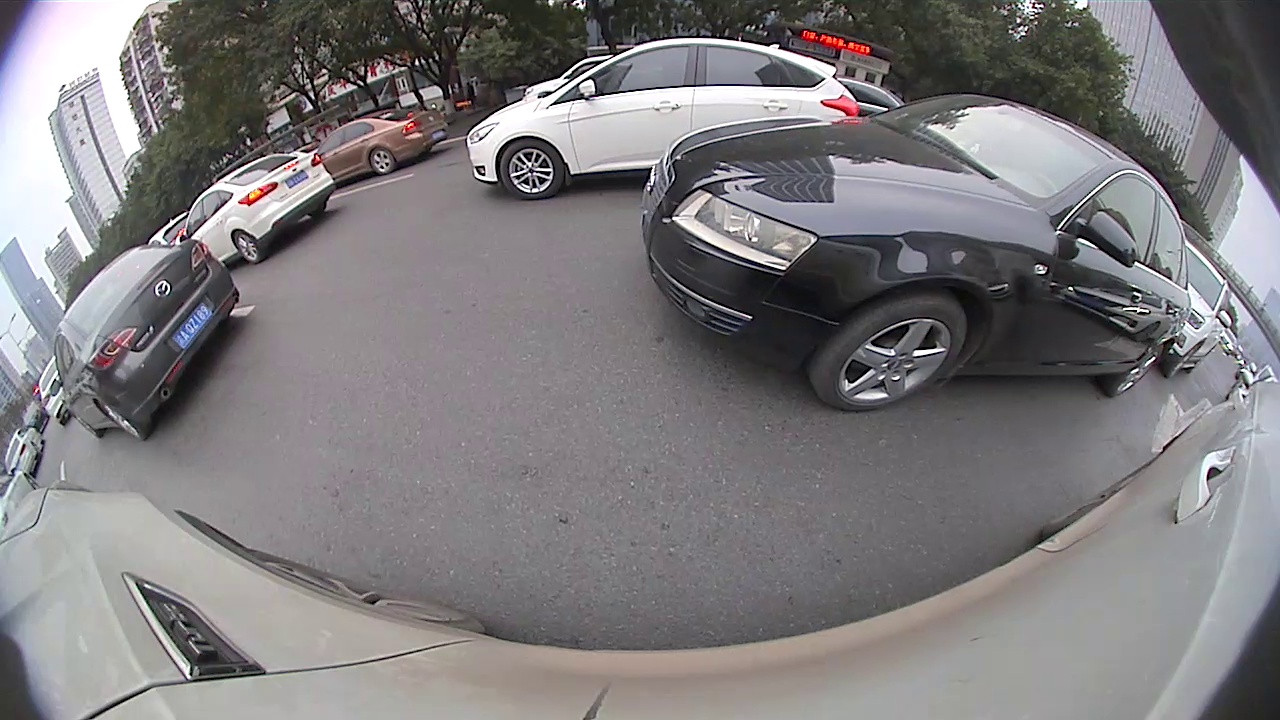car: (639, 90, 1193, 413), (466, 36, 863, 203), (43, 241, 242, 444), (181, 149, 330, 263), (299, 104, 451, 186), (1155, 239, 1231, 379), (0, 422, 43, 475)
front: (812, 293, 968, 414), (500, 137, 562, 201)
rear: (1107, 343, 1165, 400), (96, 399, 146, 442), (235, 229, 264, 263), (369, 146, 395, 175)
